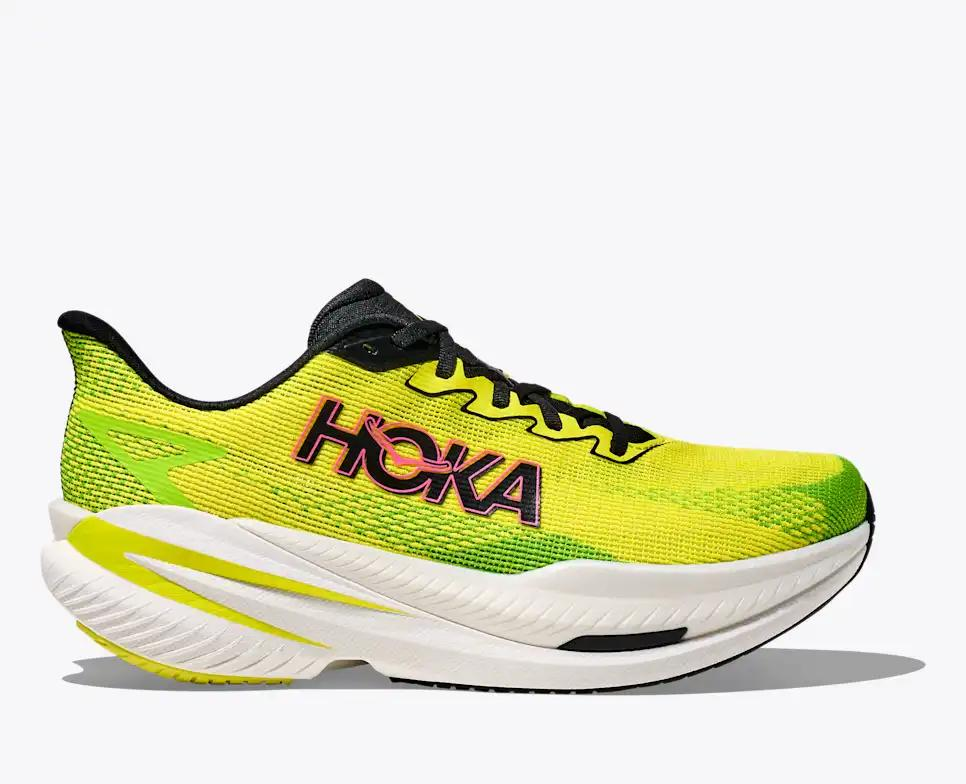hoka logo: (281, 389, 584, 540)
